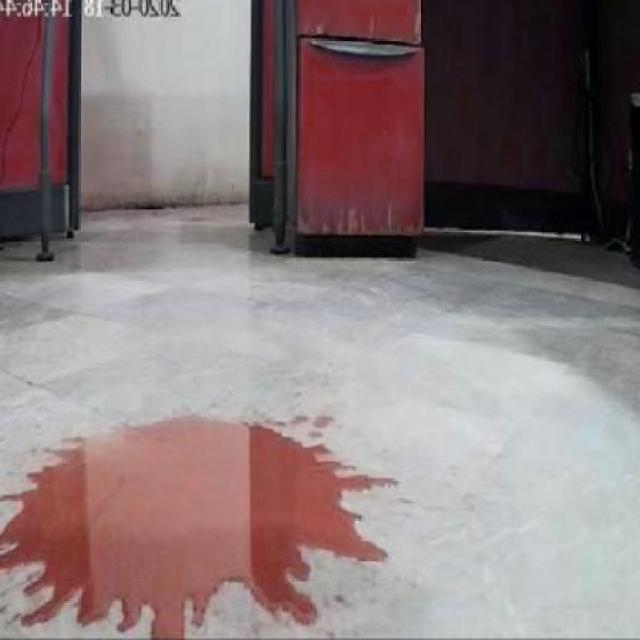spillage: (0, 417, 397, 639)
